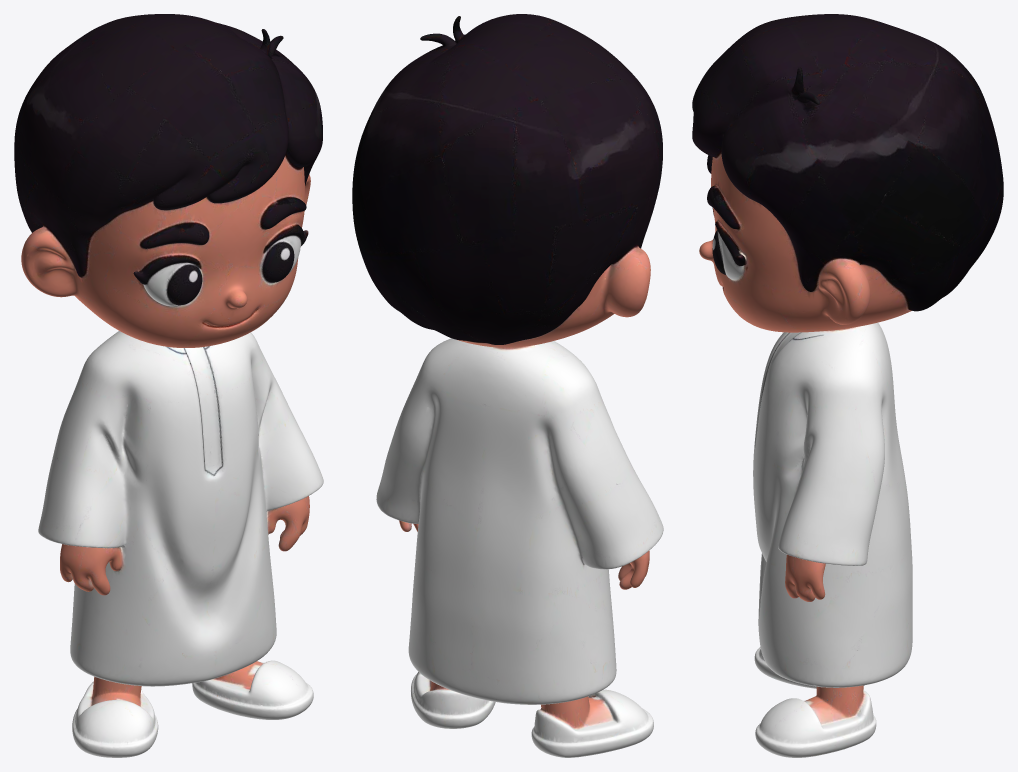
The model's file is zayed-plain.glb.
The picture shows the model from 3 angles, left to right: view 1: azimuth 30°, elevation 25°; view 2: azimuth 150°, elevation 25°; view 3: azimuth 270°, elevation 25°; orthographic projection.
Bounding box in the file's own units: 0.8277 × 1.9 × 0.7882.
Materials: 1 (1 with a texture image).
